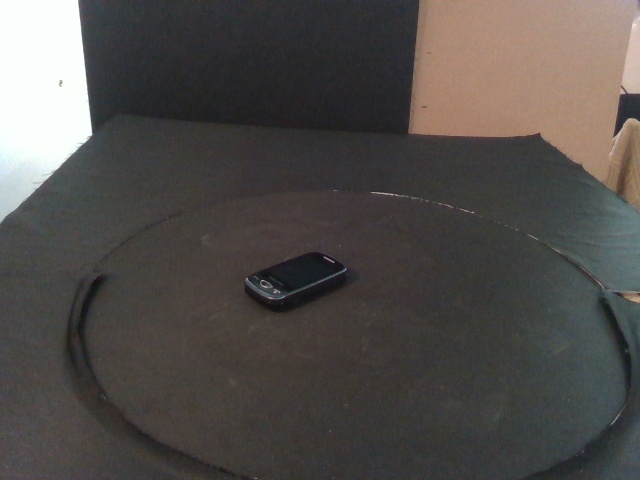phone: (244, 252, 349, 314)
